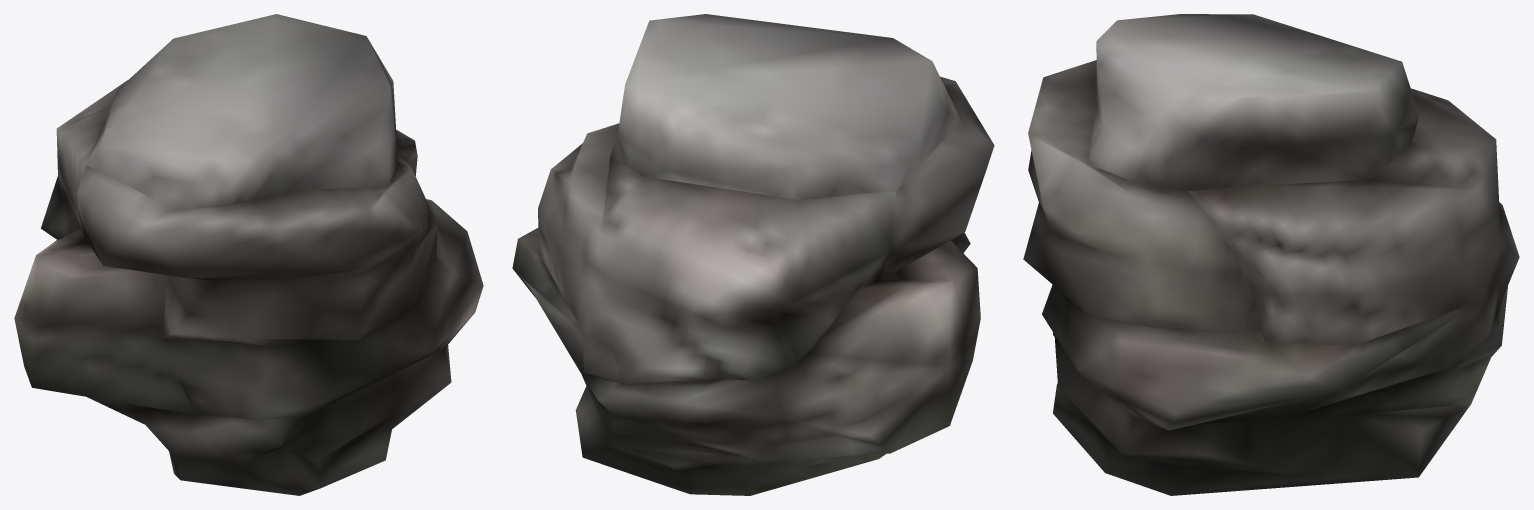
File: rock-mid-1.lod1.glb
The picture shows the model from 3 angles, left to right: view 1: azimuth 30°, elevation 25°; view 2: azimuth 150°, elevation 25°; view 3: azimuth 270°, elevation 25°; orthographic projection. The views are drawn at different scales.
Visible parts, largest first — view 1: Mid_1_MID_0; view 2: Mid_1_MID_0; view 3: Mid_1_MID_0.
Boxes of the visible parts, box(x1,y1,x2,y2) form: Mid_1_MID_0: box(14, 14, 483, 495); Mid_1_MID_0: box(512, 14, 994, 495); Mid_1_MID_0: box(1023, 14, 1519, 495).
Bounding box in the file's own units: 3.48 × 3.05 × 3.27.
1 material, 1 textured.
